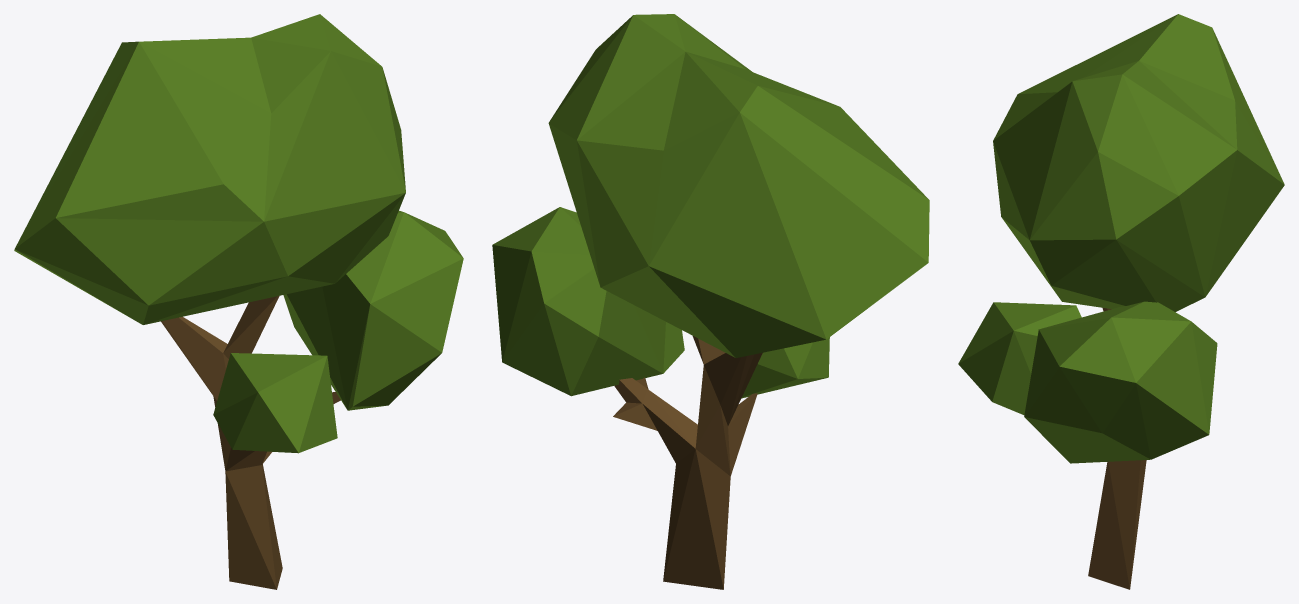
3 renders of one model, left to right at view 1: azimuth 30°, elevation 25°; view 2: azimuth 150°, elevation 25°; view 3: azimuth 270°, elevation 25°, orthographic. The views are drawn at different scales.
Visible parts, largest first — view 1: Tree1_1; view 2: Tree1_1; view 3: Tree1_1.
Part boxes in pixels (box(x1,y1,x2,y2)): Tree1_1: box(14, 14, 463, 589); Tree1_1: box(492, 14, 929, 589); Tree1_1: box(958, 14, 1284, 589).
Size of the model in its own units: 6.04 by 7.35 by 4.1.
